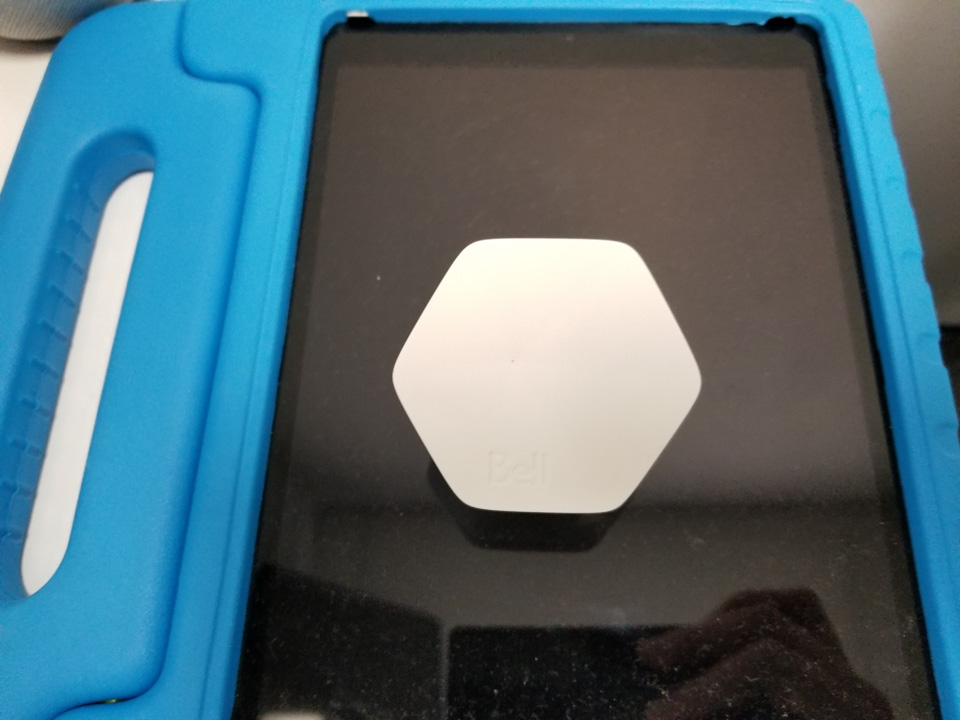pod: (388, 232, 713, 525)
